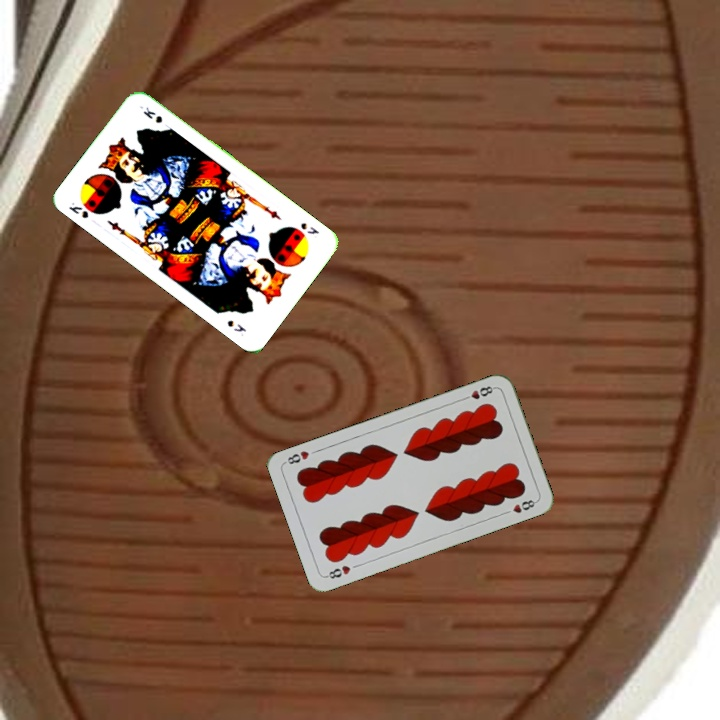H8: (459, 382, 498, 403), (322, 561, 353, 581)
SK: (64, 198, 91, 221), (297, 218, 322, 237)
